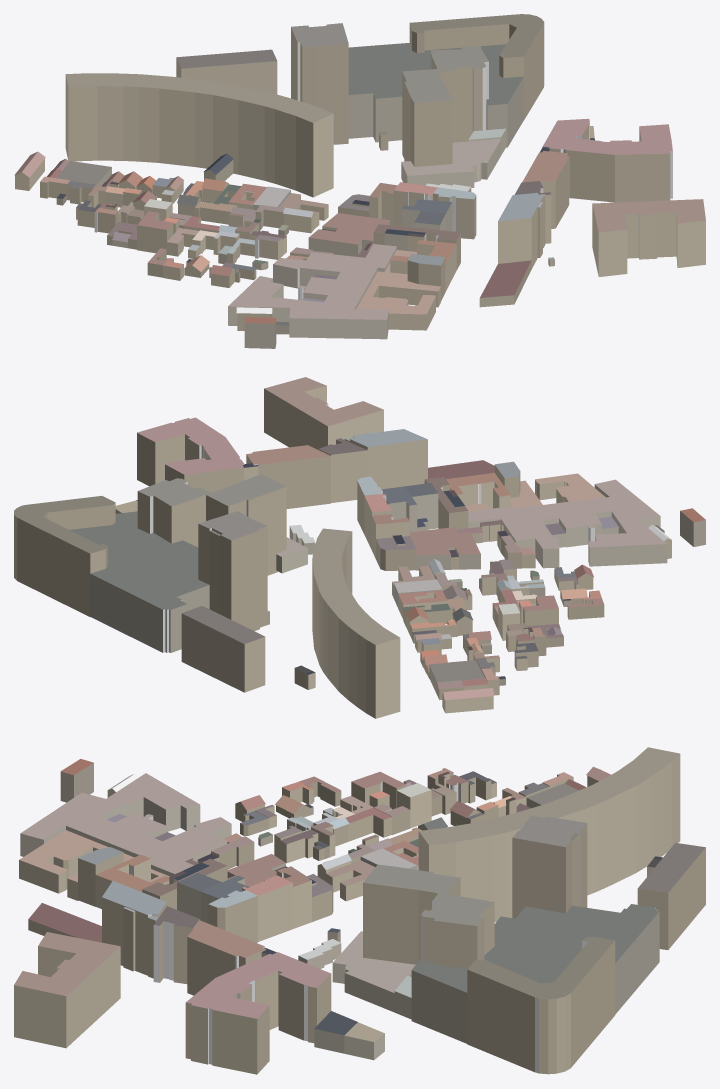
The picture shows the model from 3 angles, top to bottom: view 1: azimuth 30°, elevation 25°; view 2: azimuth 150°, elevation 25°; view 3: azimuth 270°, elevation 25°; orthographic projection. The views are drawn at different scales.
Parts seen in each view (by area): view 1: tuile; view 2: tuile; view 3: tuile.
Boxes of the visible parts, x1,y1,x2,y2 form: tuile: (14,14,705,348); tuile: (14,377,705,718); tuile: (14,747,705,1074).
Size of the model in its own units: 282 by 56.13 by 284.
